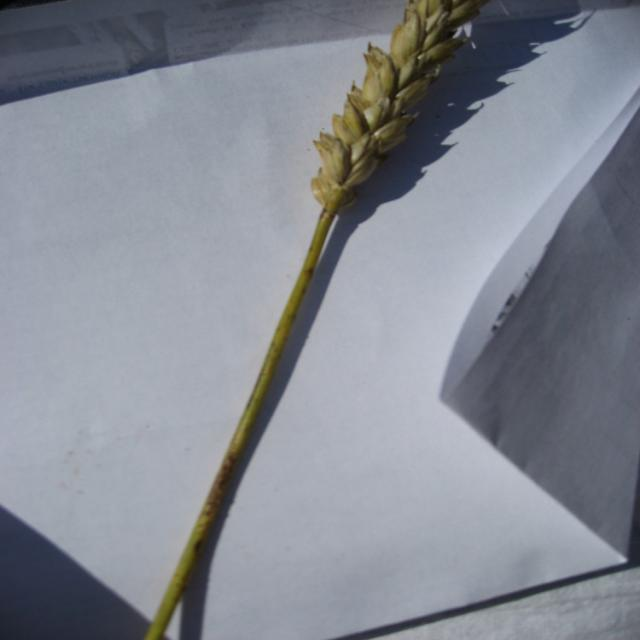wheat-stemrust: (187, 447, 244, 562)
